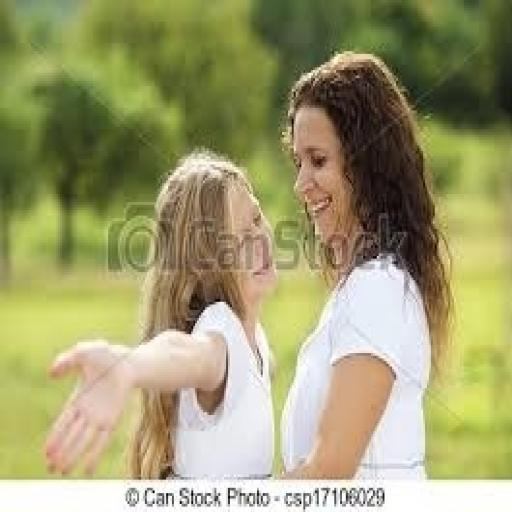hugging: (41, 48, 456, 482), (43, 148, 280, 480), (276, 48, 454, 482)
